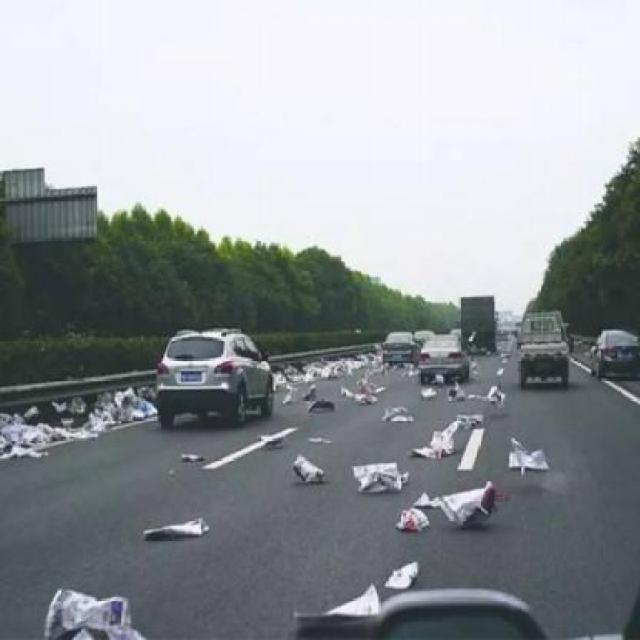garbage: (349, 462, 510, 538), (5, 397, 150, 442), (43, 588, 160, 639), (274, 366, 360, 410), (417, 388, 512, 410), (228, 419, 295, 446), (505, 429, 550, 468), (139, 523, 226, 543), (292, 446, 330, 484), (313, 346, 390, 359), (392, 553, 418, 589), (362, 377, 390, 406), (377, 408, 413, 422), (182, 448, 206, 468), (397, 363, 422, 382)
